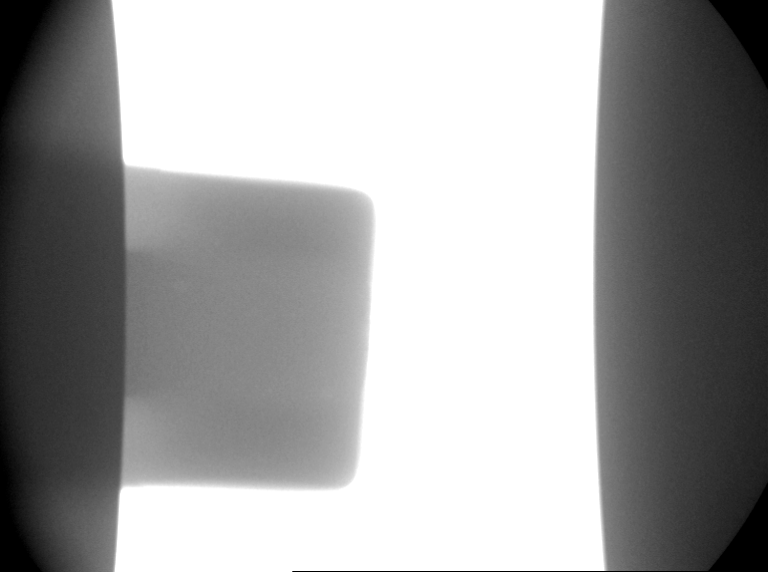defect: (169, 272, 190, 298)
